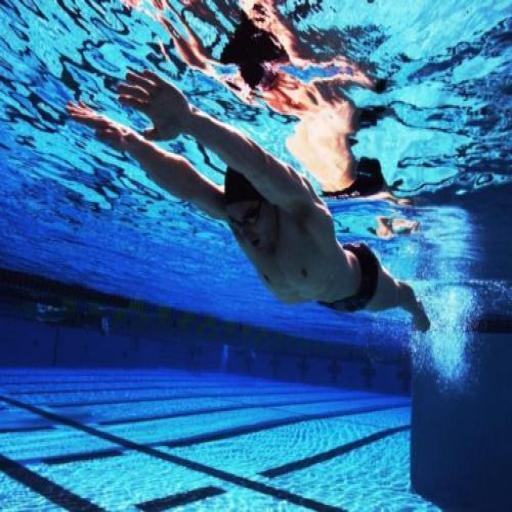swimming: (64, 64, 432, 336), (150, 0, 415, 210)
